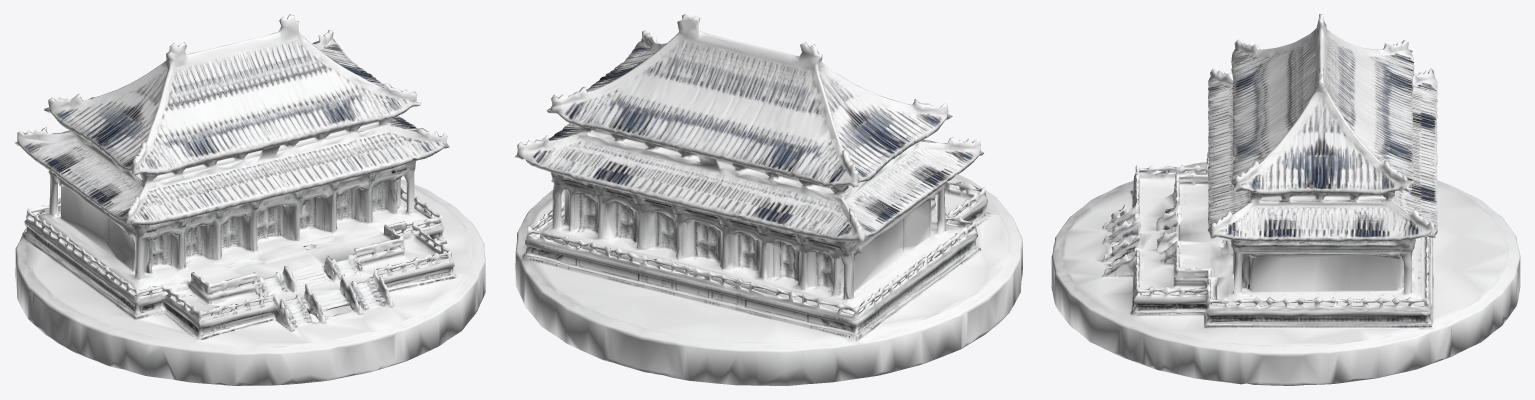
Rendered from forbidden_city_diamond.glb.
3 views of the same model, side by side, from view 1: azimuth 30°, elevation 25°; view 2: azimuth 150°, elevation 25°; view 3: azimuth 270°, elevation 25° (orthographic). The views are drawn at different scales.
Parts seen in each view (by area): view 1: Mesh_0; view 2: Mesh_0; view 3: Mesh_0.
Boxes of the visible parts, bbox=[...] form: Mesh_0: bbox=[14, 14, 485, 385]; Mesh_0: bbox=[514, 14, 1022, 385]; Mesh_0: bbox=[1051, 14, 1520, 385].
Bounding box in the file's own units: 1.91 × 1.1 × 1.91.
1 material, 1 textured.
